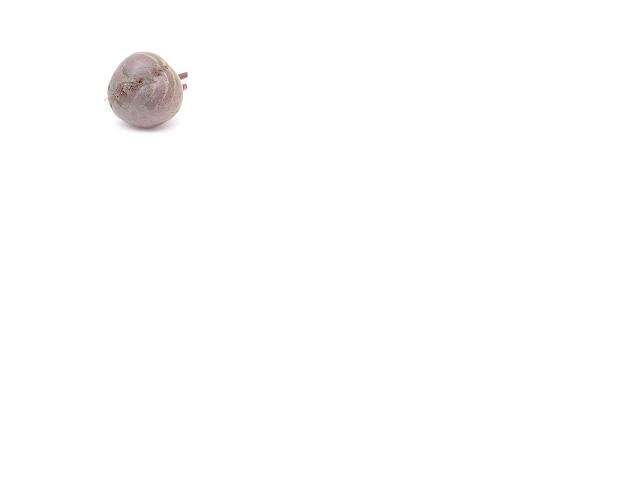beet: (106, 51, 186, 129)
